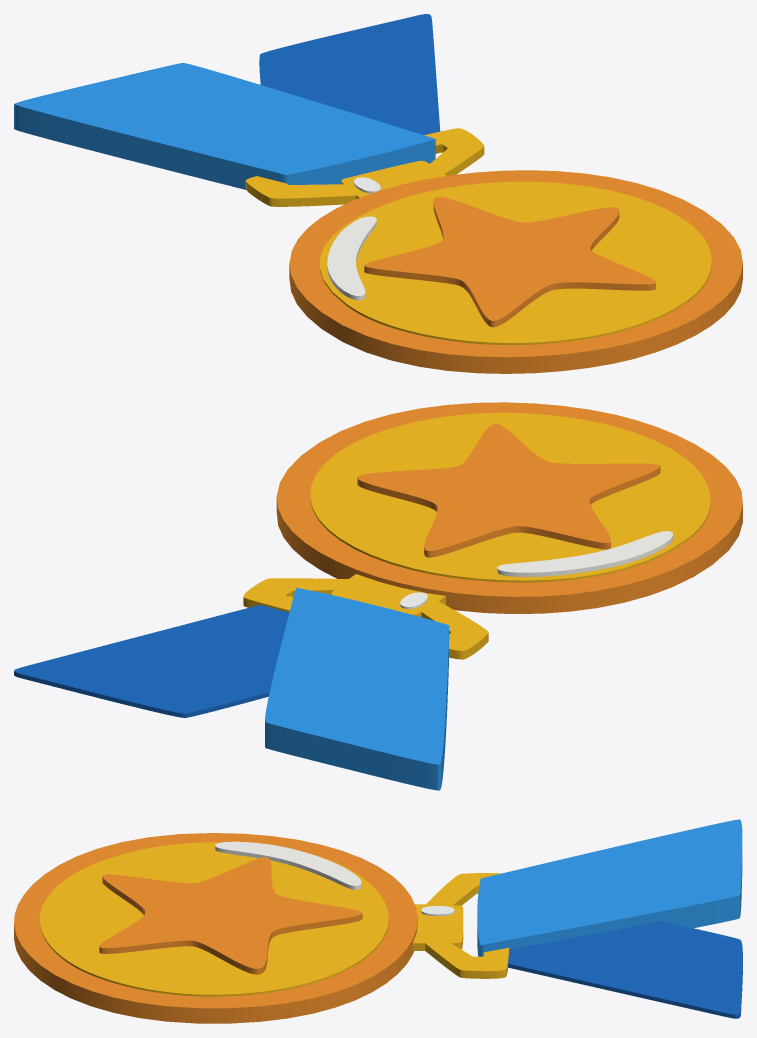
The model's file is emoji_u1f3c5.glb.
3 renders of one model, top to bottom at view 1: azimuth 30°, elevation 25°; view 2: azimuth 150°, elevation 25°; view 3: azimuth 270°, elevation 25°, orthographic. The views are drawn at different scales.
Parts seen in each view (by area): view 1: emoji_u1f3c5; view 2: emoji_u1f3c5; view 3: emoji_u1f3c5.
Boxes of the visible parts, <box> form: emoji_u1f3c5: <box>14,14,742,373</box>; emoji_u1f3c5: <box>14,402,742,790</box>; emoji_u1f3c5: <box>14,819,742,1023</box>.
Bounding box in the file's own units: 0.0207 × 0.0016 × 0.0344.
